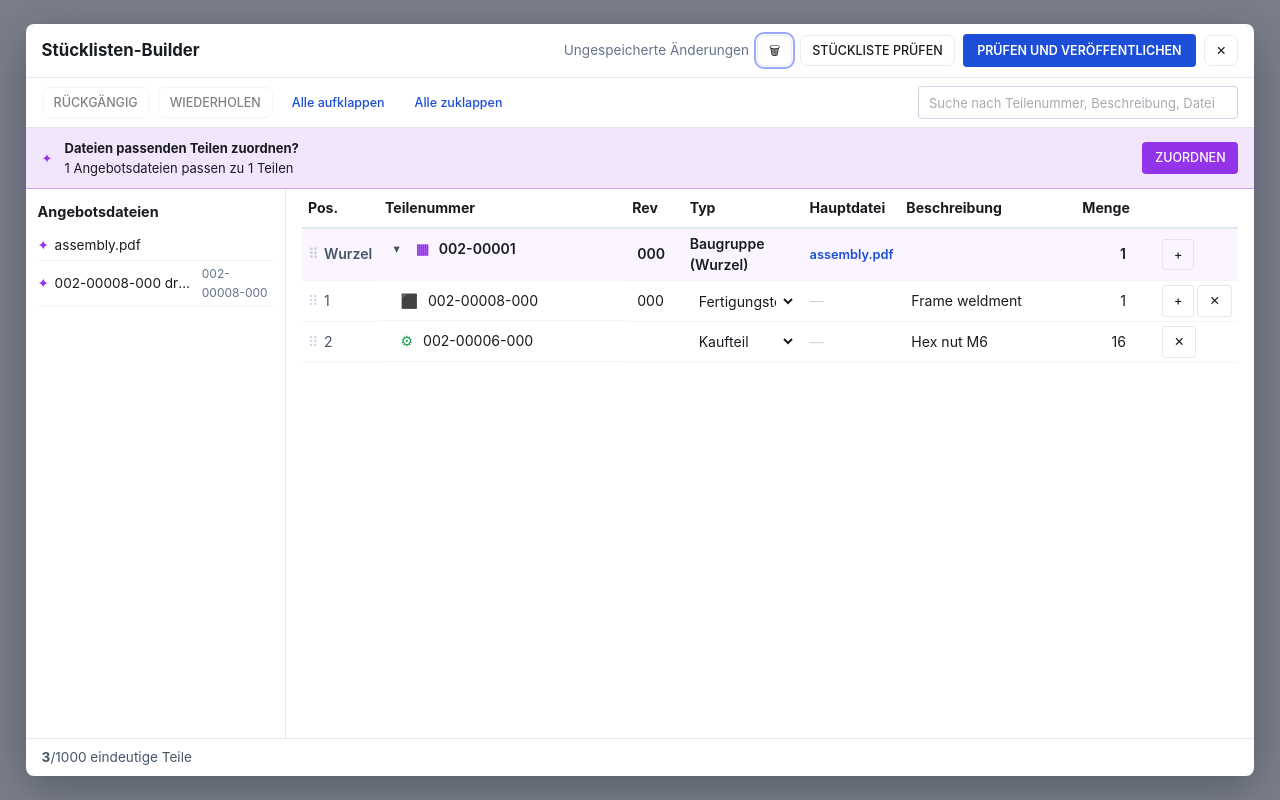
Test case: BomBuilderModal › accepts a child BOM via the sparkle: nested rows + counter climbs
Step 1. Click the button "ZUORDNEN" → (1190, 158), box [1142, 142, 1238, 174]
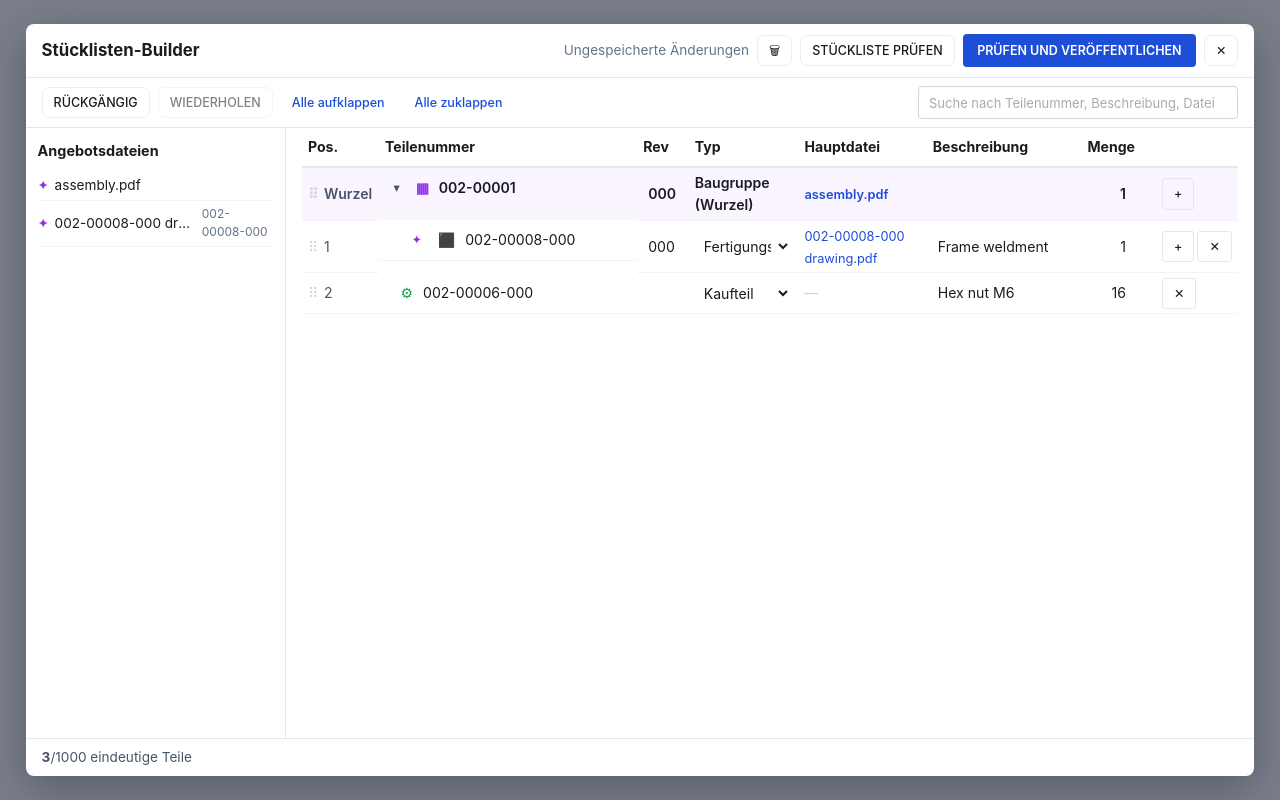
Step 2. Click the button named "unterbaugruppen-vorschlag" → (417, 240), box [401, 225, 433, 255]
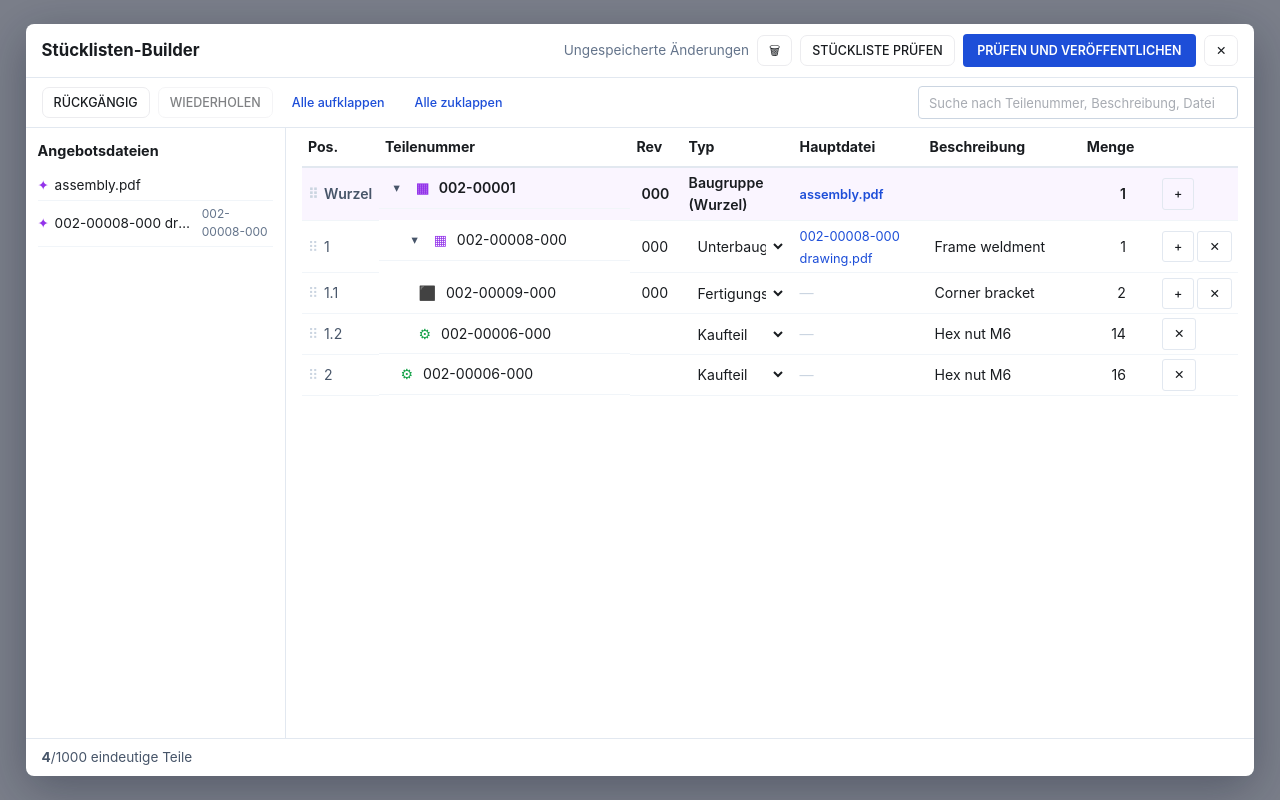
Result: the field showing "002-00009-000" next to "1.1" is shown at [441, 277, 624, 309]
Result: the text "4" is shown at [42, 749, 51, 765]
Result: the 1st dropdown named "typ" shows "Unterbaugruppe" at [689, 232, 787, 261]
